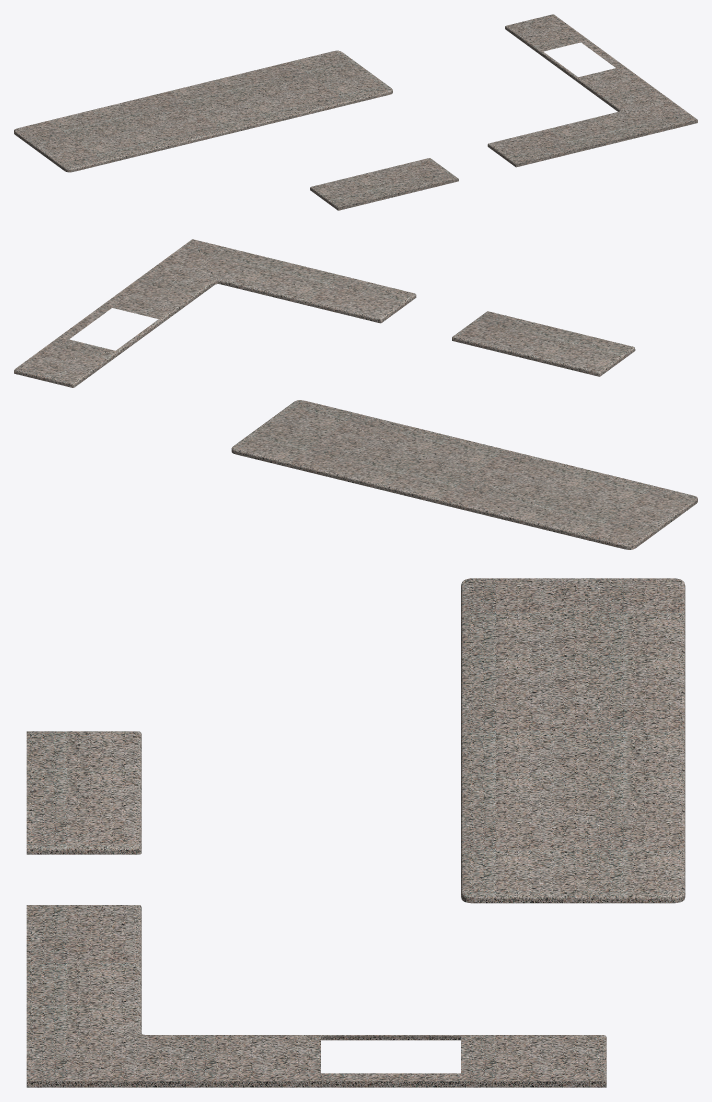
Rendered from Countertops_GraniteCaledonia.glb.
The picture shows the model from 3 angles, top to bottom: view 1: azimuth 30°, elevation 25°; view 2: azimuth 150°, elevation 25°; view 3: azimuth 270°, elevation 25°; orthographic projection. The views are drawn at different scales.
Parts seen in each view (by area): view 1: Countertops_Granite Caledonia; view 2: Countertops_Granite Caledonia; view 3: Countertops_Granite Caledonia.
Boxes of the visible parts, x1,y1,x2,y2 form: Countertops_Granite Caledonia: (14,14,697,210); Countertops_Granite Caledonia: (14,239,697,549); Countertops_Granite Caledonia: (26,578,685,1087).
Bounding box in the file's own units: 8.6 × 0.09 × 4.7.
Materials: 1 (1 with a texture image).
